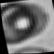correct: (0, 0, 54, 46)
